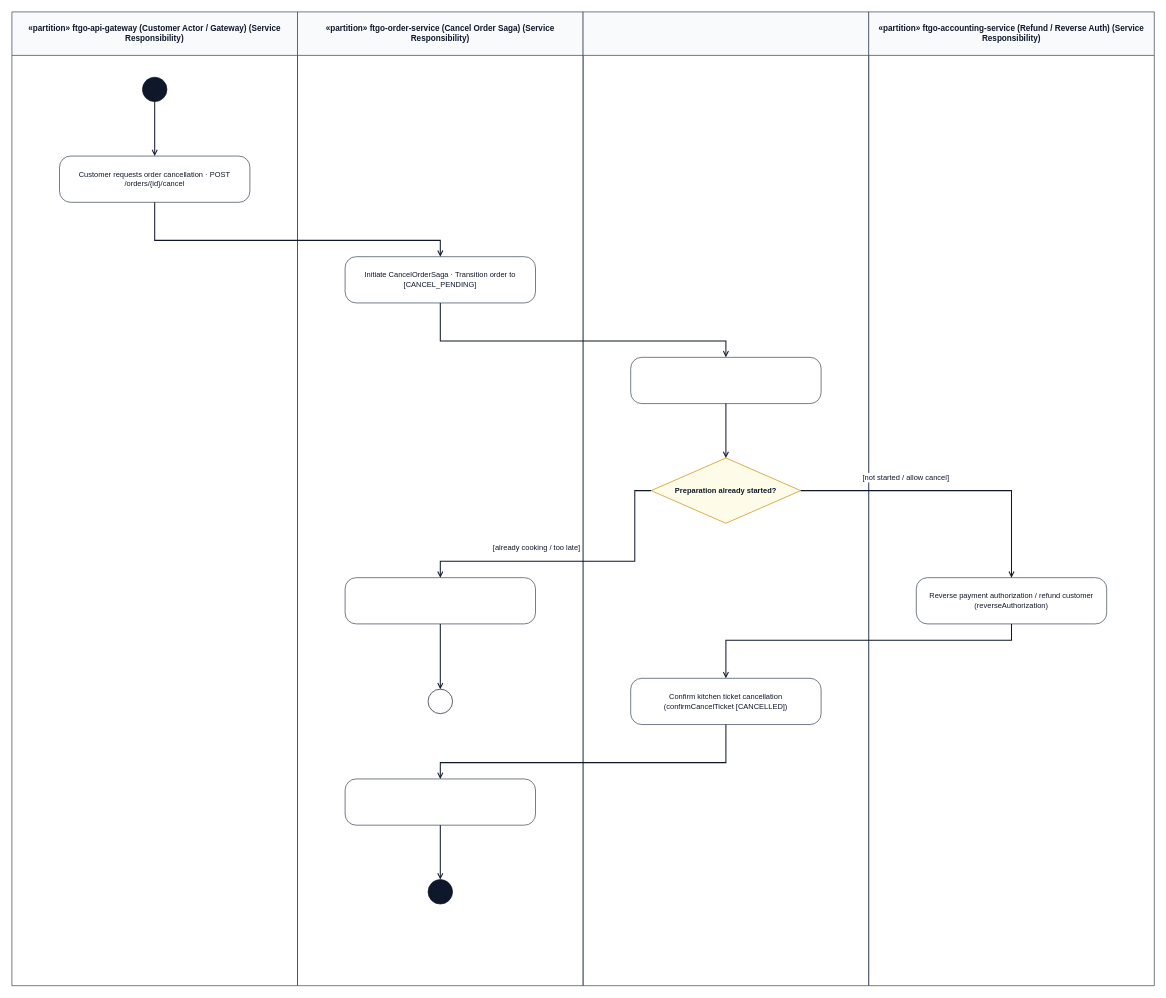
This 1166x998 diagram has some shape labels left out. Each missing label, with the box of its shape:
Check kitchen ticket preparation status (beginCancelTicket): (630, 357, 821, 404)
Finalize order cancellation · Transition state to [CANCELLED]: (344, 778, 536, 825)
Reject cancellation · Restore [APPROVED] state (undoBeginCancel): (344, 577, 536, 624)
«partition» ftgo-kitchen-service (Kitchen Ticket Check) (Service Responsibility): (582, 11, 869, 986)
